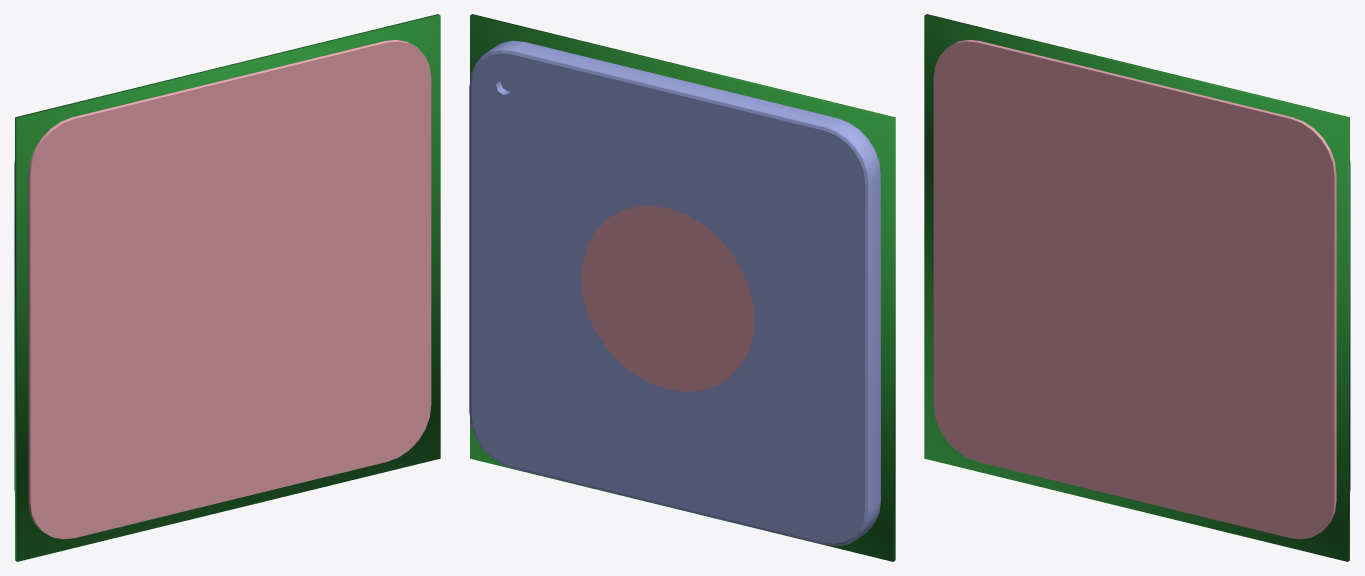
File: 2017_microprocessor.fbx
3 renders of one model, left to right at view 1: azimuth 30°, elevation 25°; view 2: azimuth 150°, elevation 25°; view 3: azimuth 330°, elevation 25°, orthographic.
Parts seen in each view (by area): view 1: 2017_microprocessor; view 2: 2017_microprocessor; view 3: 2017_microprocessor.
Boxes of the visible parts, box(x1,y1,x2,y2) form: 2017_microprocessor: box(14, 14, 440, 561); 2017_microprocessor: box(469, 14, 895, 561); 2017_microprocessor: box(924, 14, 1350, 561).
Bounding box in the file's own units: 148 × 148 × 10.92.
